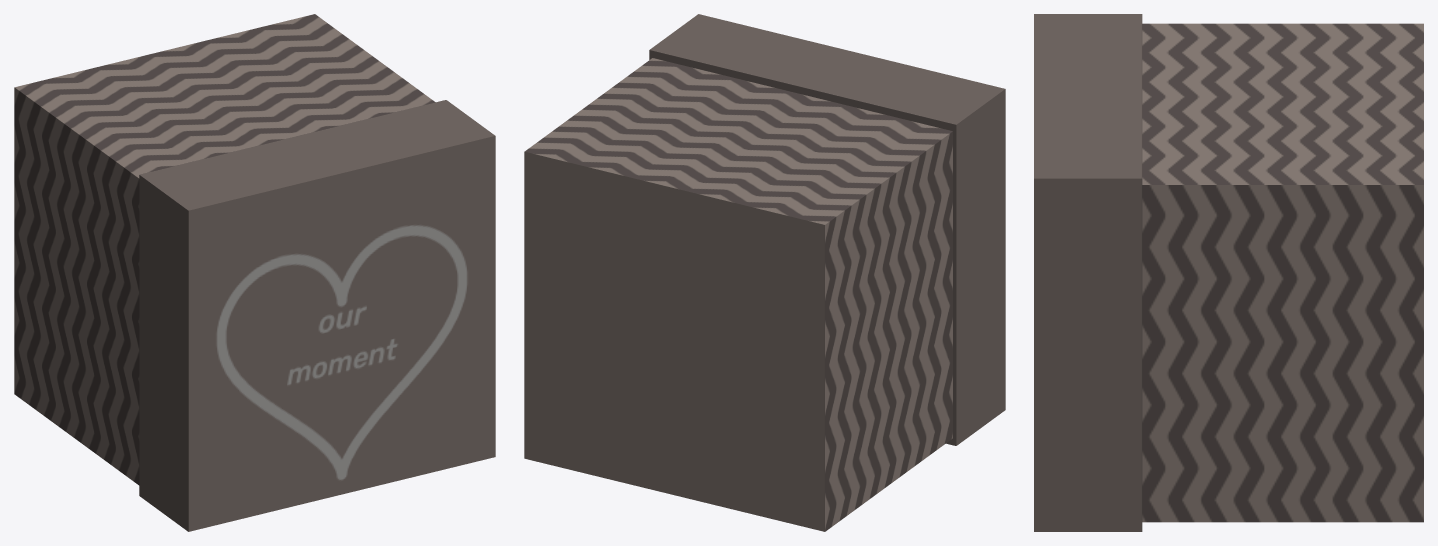
The picture shows the model from 3 angles, left to right: view 1: azimuth 30°, elevation 25°; view 2: azimuth 150°, elevation 25°; view 3: azimuth 270°, elevation 25°; orthographic projection. The views are drawn at different scales.
Parts seen in each view (by area): view 1: geometry_0; view 2: geometry_0; view 3: geometry_0.
Part boxes in pixels (bbox=[...]): geometry_0: bbox=[14, 14, 495, 531]; geometry_0: bbox=[524, 14, 1005, 531]; geometry_0: bbox=[1034, 14, 1423, 531].
Size of the model in its own units: 0.0382 by 0.0382 by 0.0382.
1 material, 1 textured.
